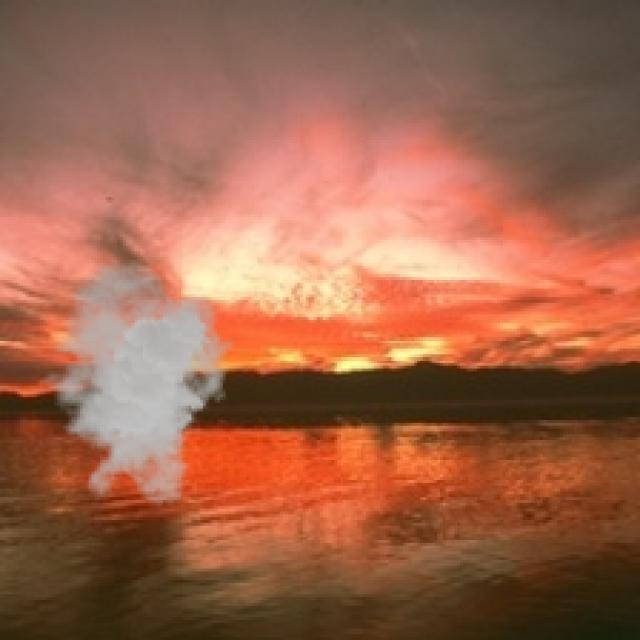Smoke: (32, 260, 235, 509)
